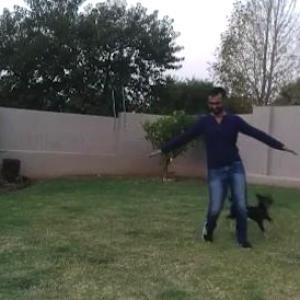land: (137, 81, 292, 253)
